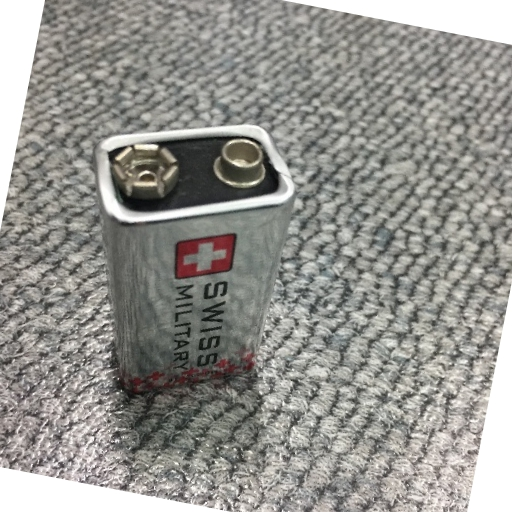Battery_3: (87, 121, 299, 408)
